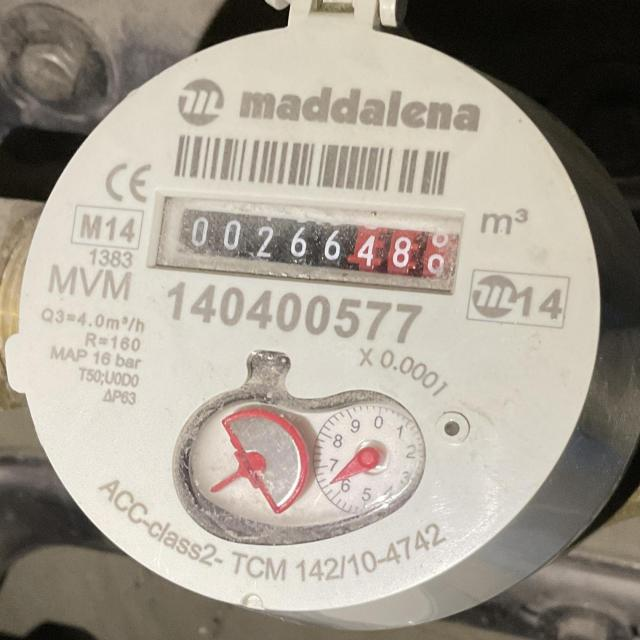gaz_meter: (22, 28, 599, 612)
indication: (156, 194, 463, 296)
